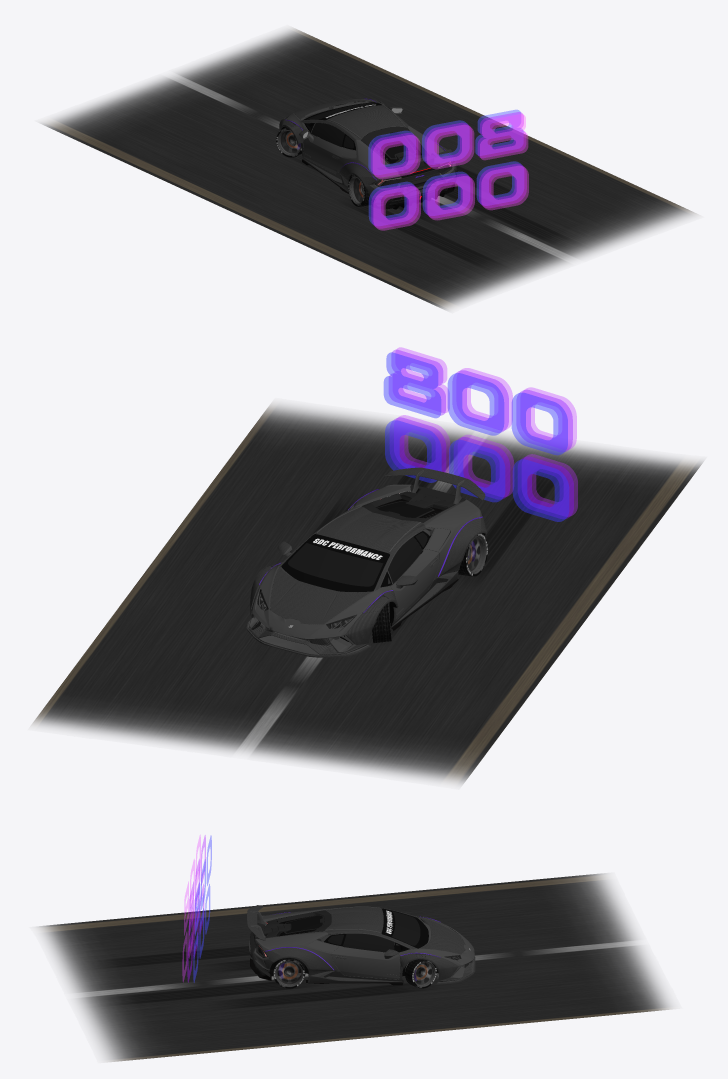
Rendered from aventador.glb.
3 views of the same model, one above another, from view 1: azimuth 30°, elevation 25°; view 2: azimuth 150°, elevation 25°; view 3: azimuth 270°, elevation 25° (orthographic). The views are drawn at different scales.
Visible parts, largest first — view 1: Plane.001_16, Text.004_14, Text.005_15, Text_13, Object_62, Object_63, Object_78, Object_81, Object_67, Object_73, Object_115, pneu ar-gauche 1_4 (+2 smaller); view 2: Plane.001_16, Text_13, Text.005_15, Text.004_14, Object_63, Object_62, Object_67, Object_84, Object_86, Object_81, Object_64, Object_70 (+7 smaller); view 3: Plane.001_16, Object_62, Object_63, Object_81, Object_67, Object_73, Object_84, Text_13, Object_78, pneu ar-gauche 1_4, Text.005_15, Text.004_14 (+6 smaller).
Boxes of the visible parts, left/top/right/bottom form: Plane.001_16: left=42, top=28, right=695, bottom=309; Text.004_14: left=373, top=114, right=528, bottom=230; Text.005_15: left=371, top=112, right=526, bottom=228; Text_13: left=368, top=110, right=523, bottom=225; Object_62: left=286, top=99, right=452, bottom=184; Object_63: left=301, top=101, right=408, bottom=192; Object_78: left=361, top=127, right=428, bottom=169; Object_81: left=303, top=133, right=343, bottom=174; Object_67: left=307, top=103, right=376, bottom=146; Object_73: left=339, top=143, right=456, bottom=195; Object_115: left=373, top=132, right=414, bottom=158; pneu ar-gauche 1_4: left=348, top=171, right=456, bottom=206; Plane.001_16: left=32, top=404, right=702, bottom=783; Text_13: left=384, top=352, right=568, bottom=521; Text.005_15: left=389, top=350, right=573, bottom=518; Text.004_14: left=395, top=347, right=577, bottom=516; Object_63: left=279, top=506, right=458, bottom=627; Object_62: left=260, top=484, right=481, bottom=640; Object_67: left=288, top=536, right=422, bottom=586; Object_84: left=270, top=567, right=371, bottom=624; Object_86: left=249, top=585, right=365, bottom=652; Object_81: left=391, top=549, right=439, bottom=620; Object_64: left=281, top=531, right=454, bottom=592; Object_70: left=250, top=564, right=398, bottom=644; Plane.001_16: left=39, top=873, right=671, bottom=1061; Object_62: left=254, top=909, right=460, bottom=979; Object_63: left=308, top=907, right=418, bottom=982; Object_81: left=331, top=946, right=399, bottom=979; Object_67: left=343, top=911, right=420, bottom=952; Object_73: left=263, top=947, right=333, bottom=975; Object_84: left=420, top=917, right=465, bottom=954; Text_13: left=193, top=836, right=211, bottom=982; Object_78: left=262, top=910, right=331, bottom=938; pneu ar-gauche 1_4: left=273, top=957, right=305, bottom=988; Text.005_15: left=187, top=835, right=205, bottom=982; Text.004_14: left=182, top=835, right=200, bottom=981.
Size of the model in its own units: 10.63 by 2.59 by 16.13.
Materials: 42 (8 with a texture image).
